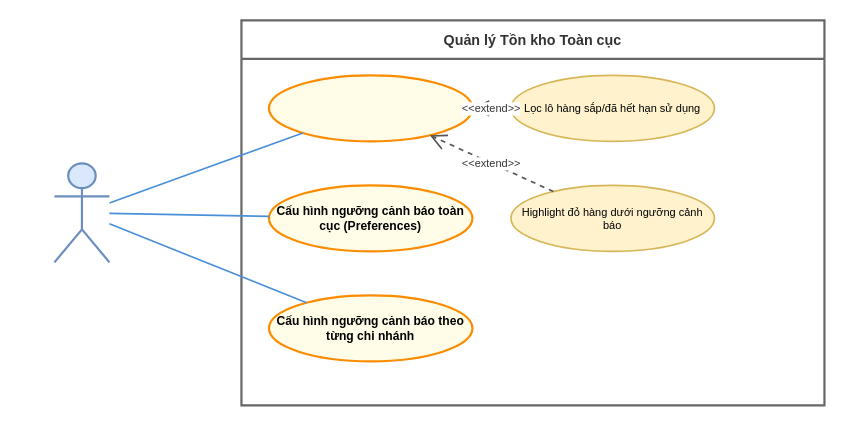
This 844x425 diagram has some shape labels left out. The centre of each missing label's shape, as x and y in pixels:
"Quản trị viên (ADMIN)" belongs at point (81, 212).
"Xem tồn kho tất cả chi nhánh (Toàn cục)" belongs at point (370, 108).
